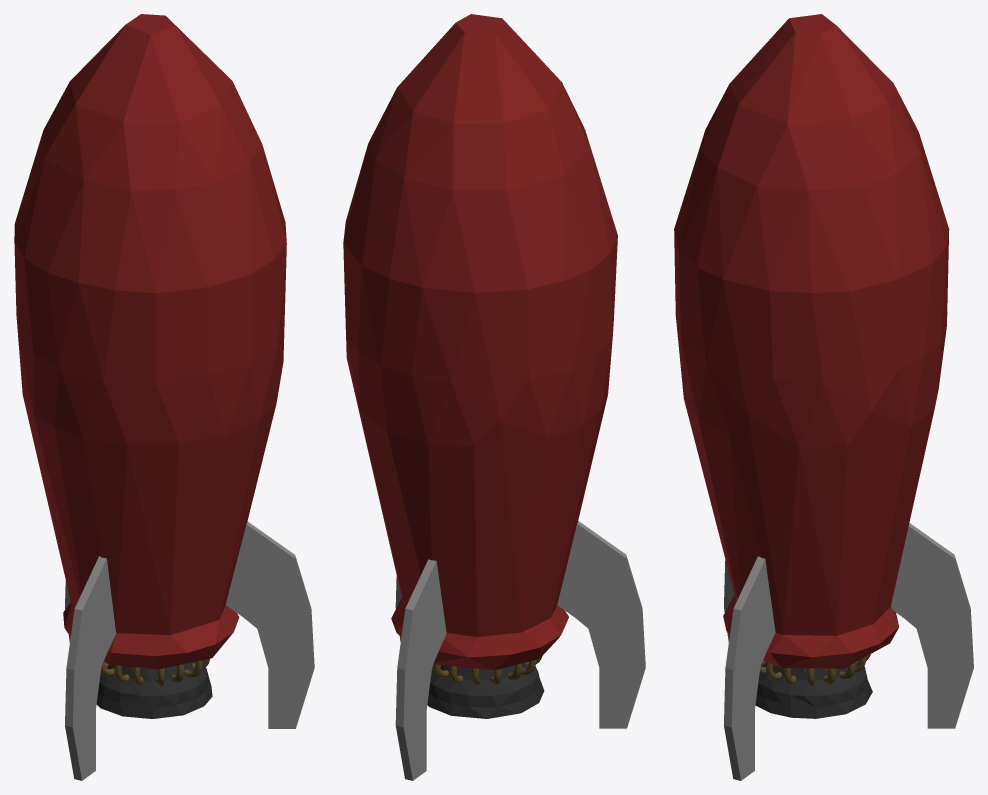
The model's file is Rocket.fbx.
3 renders of one model, left to right at view 1: azimuth 30°, elevation 25°; view 2: azimuth 150°, elevation 25°; view 3: azimuth 270°, elevation 25°, orthographic.
Parts seen in each view (by area): view 1: Cylinder, Cube.002, Cube, Cylinder.001, Cylinder.012; view 2: Cylinder, Cube, Cube.001, Cylinder.001, Cylinder.012; view 3: Cylinder, Cube.001, Cube.002, Cylinder.001, Cylinder.012.
Part boxes in pixels (box(x1,y1,x2,y2)): Cylinder: box(14, 14, 286, 669); Cube.002: box(225, 521, 314, 728); Cube: box(65, 556, 115, 780); Cylinder.001: box(96, 661, 212, 718); Cylinder.012: box(100, 658, 210, 686); Cylinder: box(343, 14, 617, 670); Cube: box(557, 521, 645, 728); Cube.001: box(395, 559, 446, 780); Cylinder.001: box(427, 662, 544, 718); Cylinder.012: box(432, 656, 542, 685); Cylinder: box(674, 14, 949, 668); Cube.001: box(891, 523, 973, 728); Cube.002: box(724, 556, 775, 780); Cylinder.001: box(755, 662, 872, 718); Cylinder.012: box(759, 654, 870, 685).
Bounding box in the file's own units: 867 × 2331 × 900.
